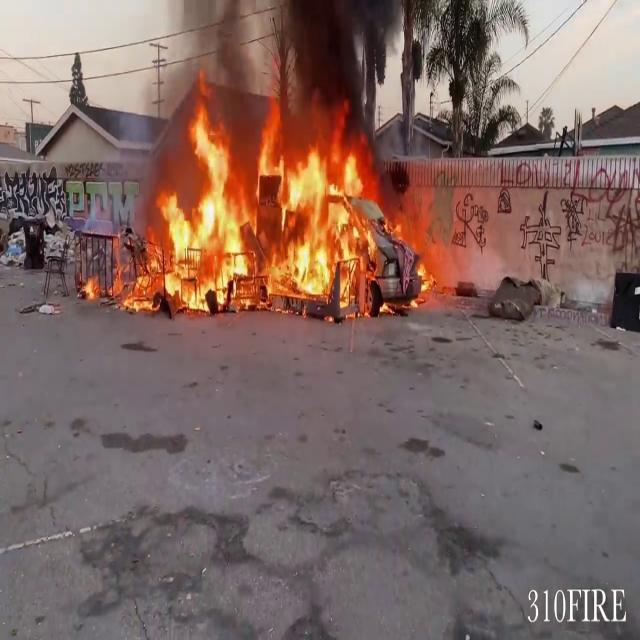Fire: (111, 96, 442, 318)
Smoke: (125, 1, 408, 152)
